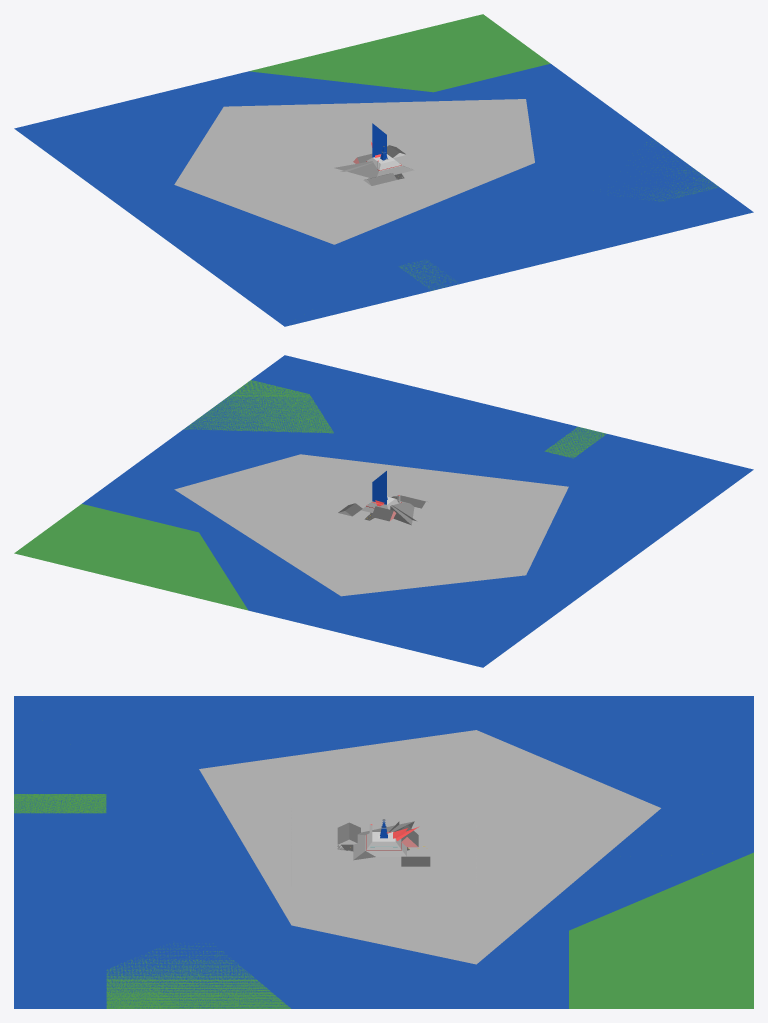
3 views of the same model, one above another, from view 1: azimuth 30°, elevation 25°; view 2: azimuth 150°, elevation 25°; view 3: azimuth 270°, elevation 25° (orthographic). The views are drawn at different scales.
Visible parts, largest first — view 1: pg_005_lod0, pg_021_lod0, pg_008_lod0, pg_007_lod0, pg_009_lod0, pg_043_lod0_s1v0, pg_010_lod0; view 2: pg_005_lod0, pg_021_lod0, pg_008_lod0, pg_007_lod0, pg_001_lod0, pg_009_lod0, pg_003_lod0, pg_043_lod0_s1v0, pg_040_lod0_s1v0; view 3: pg_005_lod0, pg_021_lod0, pg_008_lod0, pg_007_lod0, pg_001_lod0, pg_003_lod0, pg_043_lod0_s1v0, pg_009_lod0, pg_040_lod0_s1v0, pg_010_lod0.
Boxes of the visible parts, bbox=[...] form: pg_005_lod0: bbox=[14, 64, 549, 297]; pg_021_lod0: bbox=[174, 99, 534, 244]; pg_008_lod0: bbox=[249, 14, 719, 230]; pg_007_lod0: bbox=[217, 14, 753, 326]; pg_009_lod0: bbox=[398, 259, 460, 290]; pg_043_lod0_s1v0: bbox=[366, 123, 401, 171]; pg_010_lod0: bbox=[334, 161, 414, 177]; pg_005_lod0: bbox=[83, 434, 685, 667]; pg_021_lod0: bbox=[174, 454, 568, 596]; pg_008_lod0: bbox=[14, 380, 438, 610]; pg_007_lod0: bbox=[14, 355, 753, 553]; pg_001_lod0: bbox=[184, 380, 606, 458]; pg_009_lod0: bbox=[545, 427, 606, 458]; pg_003_lod0: bbox=[545, 427, 604, 458]; pg_043_lod0_s1v0: bbox=[361, 471, 401, 512]; pg_040_lod0_s1v0: bbox=[338, 495, 429, 521]; pg_005_lod0: bbox=[14, 696, 753, 1008]; pg_021_lod0: bbox=[199, 730, 660, 964]; pg_008_lod0: bbox=[106, 852, 753, 1008]; pg_007_lod0: bbox=[14, 696, 753, 1008]; pg_001_lod0: bbox=[14, 794, 290, 1008]; pg_003_lod0: bbox=[14, 794, 106, 813]; pg_043_lod0_s1v0: bbox=[365, 832, 406, 856]; pg_009_lod0: bbox=[14, 794, 105, 813]; pg_040_lod0_s1v0: bbox=[337, 822, 418, 847]; pg_010_lod0: bbox=[353, 821, 414, 860].
Size of what is drawn, in the model's own units: 4096 by 384 by 4096.
